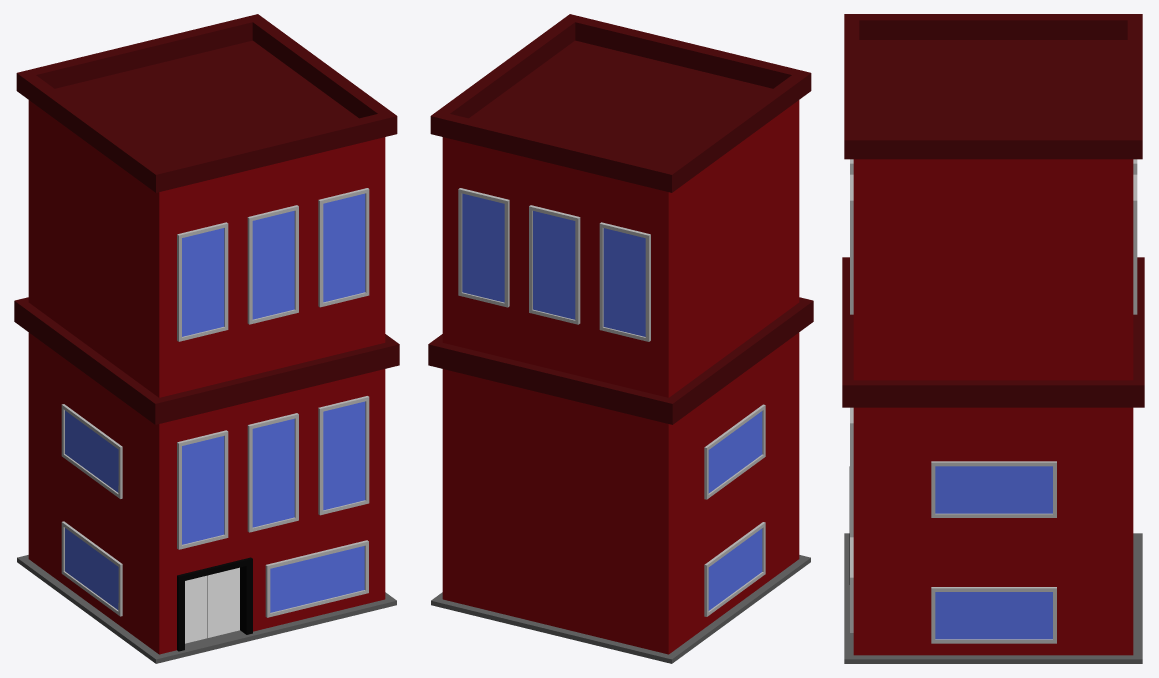
Rendered from Building1_Nikki.fbx.
3 views of the same model, side by side, from view 1: azimuth 30°, elevation 25°; view 2: azimuth 150°, elevation 25°; view 3: azimuth 270°, elevation 25° (orthographic). The views are drawn at different scales.
Parts seen in each view (by area): view 1: Building1; view 2: Building1; view 3: Building1.
Boxes of the visible parts, <box> form: Building1: <box>14,14,399,663</box>; Building1: <box>428,14,813,663</box>; Building1: <box>842,14,1144,663</box>.
Bounding box in the file's own units: 989 × 1891 × 989.
